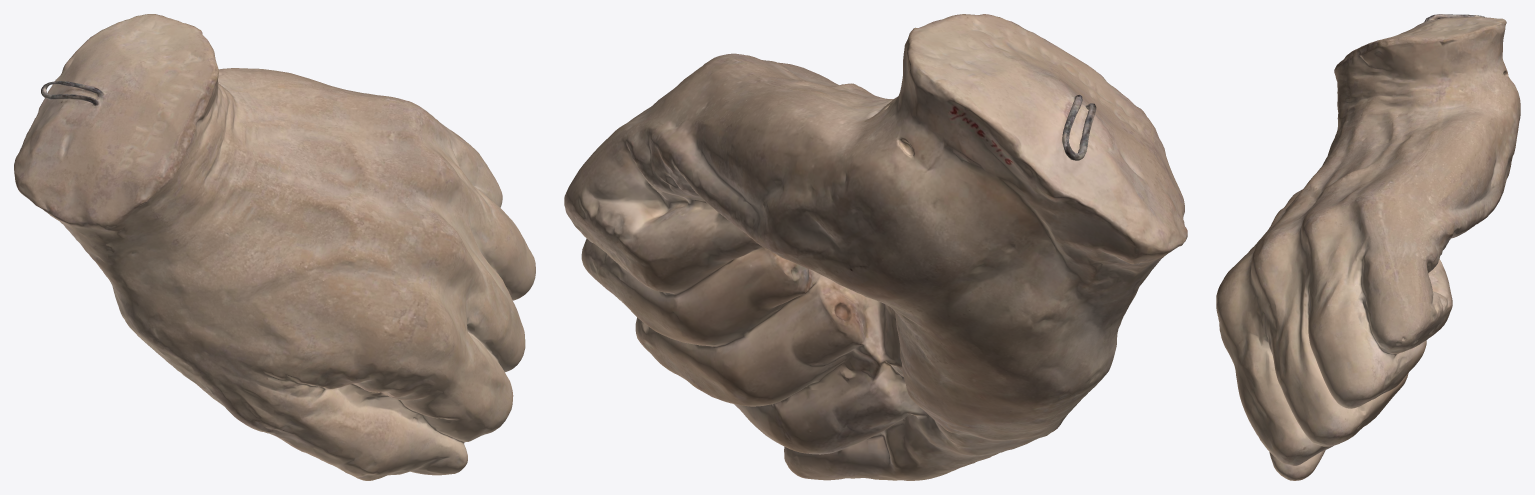
Rendered from npg_71_6_left-hires_unwrapped-50k-2048_draco.glb.
3 views of the same model, side by side, from view 1: azimuth 30°, elevation 25°; view 2: azimuth 150°, elevation 25°; view 3: azimuth 270°, elevation 25° (orthographic). The views are drawn at different scales.
Size of the model in its own units: 164 by 143 by 106.
Materials: 1 (1 with a texture image).
